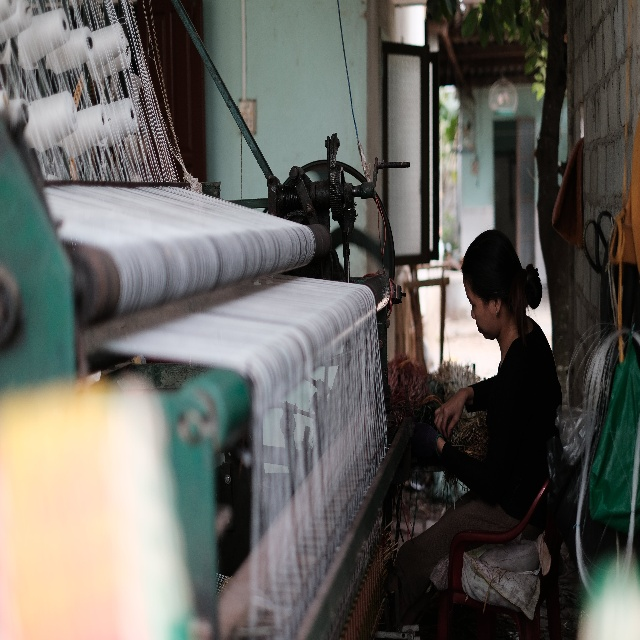Guantes: (410, 420, 442, 461)
Sin_guantes: (434, 388, 466, 439)
